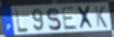9: (32, 8, 45, 33)
E: (61, 6, 79, 32)
K: (94, 6, 108, 29)
L: (14, 9, 30, 34)
S: (46, 7, 62, 32)
X: (76, 5, 95, 30)
